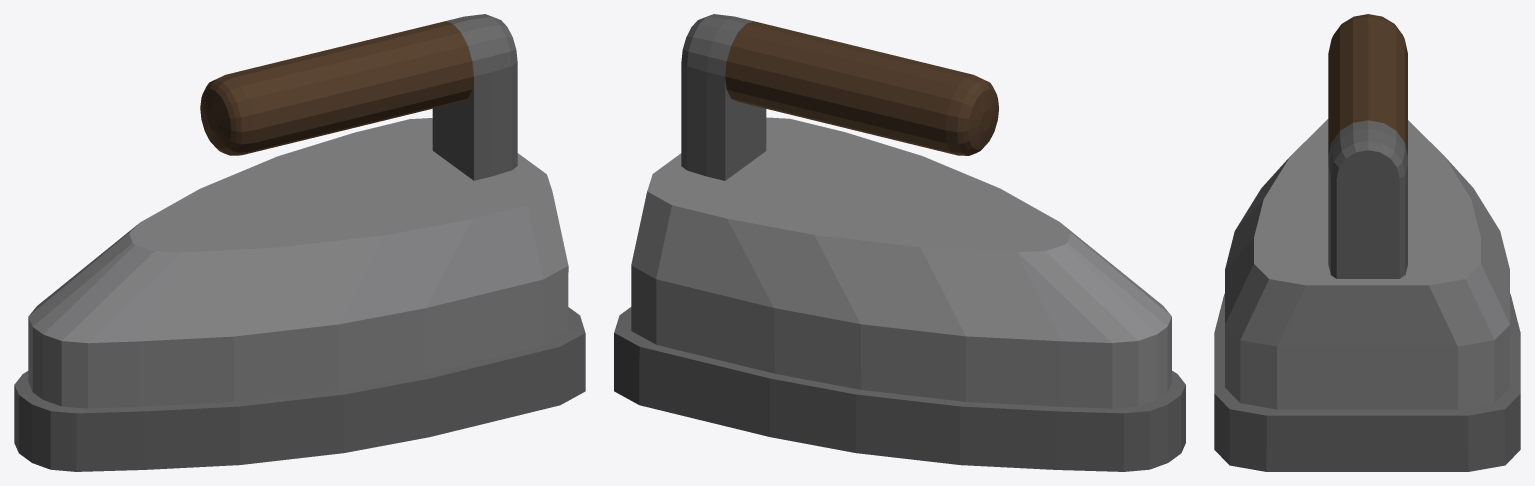
Rendered from bigIron.fbx.
3 renders of one model, left to right at view 1: azimuth 30°, elevation 25°; view 2: azimuth 150°, elevation 25°; view 3: azimuth 270°, elevation 25°, orthographic. The views are drawn at different scales.
Visible parts, largest first — view 1: Cube, Cylinder; view 2: Cube, Cylinder; view 3: Cube, Cylinder.
Part boxes in pixels (left/top/right/bottom): Cube: left=14, top=118, right=585, bottom=471; Cylinder: left=200, top=14, right=517, bottom=180; Cube: left=614, top=117, right=1185, bottom=471; Cylinder: left=681, top=14, right=998, bottom=180; Cube: left=1214, top=119, right=1520, bottom=471; Cylinder: left=1328, top=14, right=1407, bottom=278.
Size of the model in its own units: 215 by 392 by 245.
